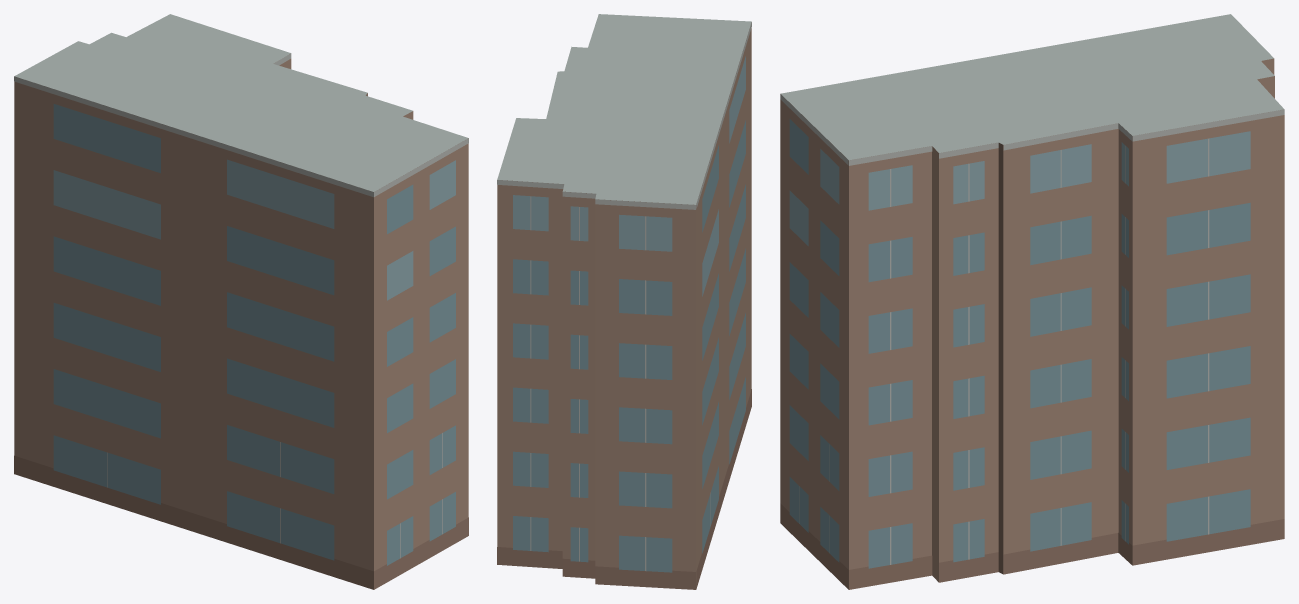
The model's file is survey-upis-32704644.glb.
3 renders of one model, left to right at view 1: azimuth 30°, elevation 25°; view 2: azimuth 150°, elevation 25°; view 3: azimuth 270°, elevation 25°, orthographic. The views are drawn at different scales.
Parts seen in each view (by area): view 1: survey-upis-32704644.tmp; view 2: survey-upis-32704644.tmp; view 3: survey-upis-32704644.tmp.
Part boxes in pixels (bbox=[...]): survey-upis-32704644.tmp: bbox=[14, 14, 468, 589]; survey-upis-32704644.tmp: bbox=[497, 14, 751, 589]; survey-upis-32704644.tmp: bbox=[780, 14, 1284, 589].
Bounding box in the file's own units: 13.59 × 18.6 × 19.79.
